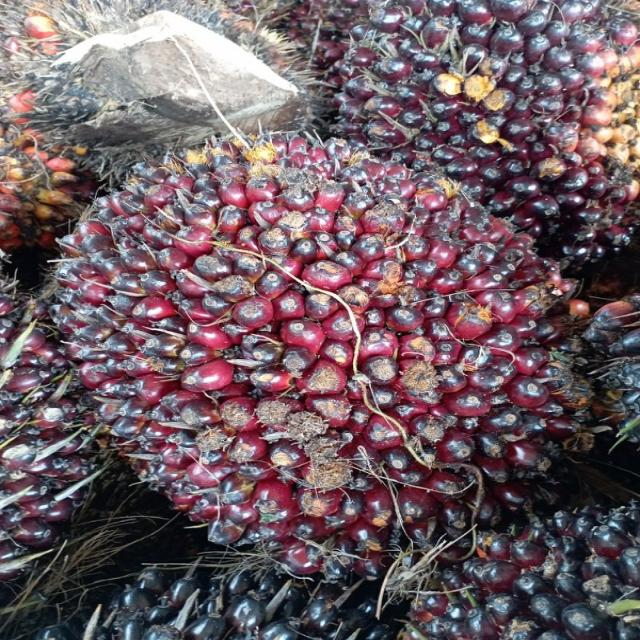fraksi 1: (69, 131, 572, 530)
